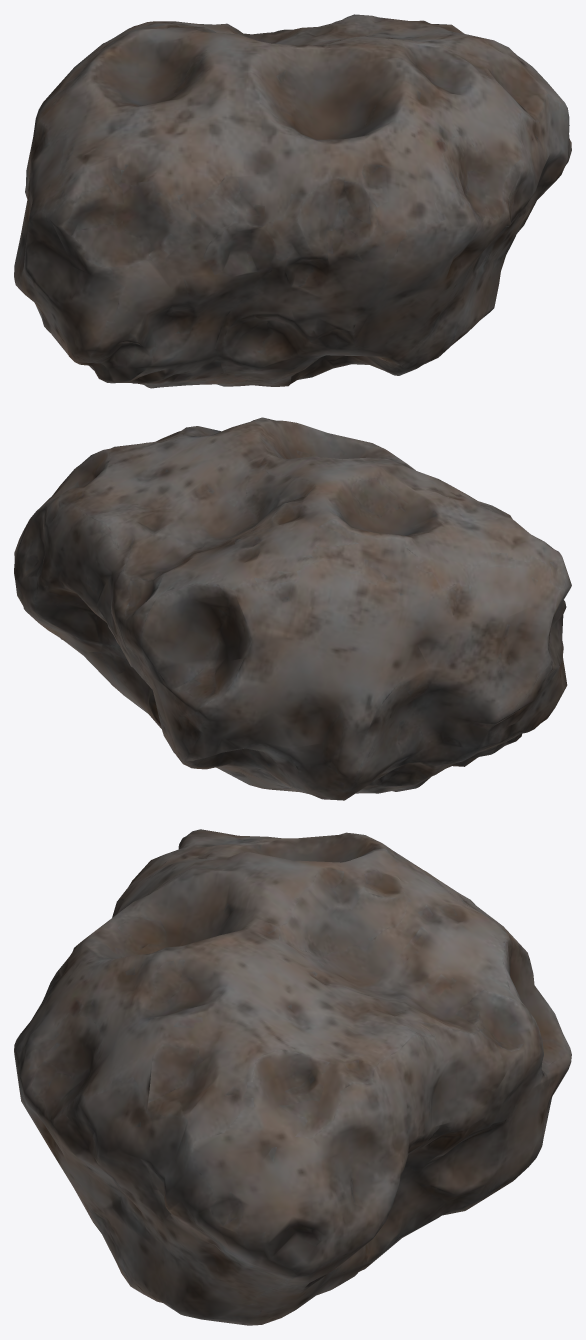
Rendered from meteorite.glb.
3 views of the same model, one above another, from view 1: azimuth 30°, elevation 25°; view 2: azimuth 150°, elevation 25°; view 3: azimuth 270°, elevation 25° (orthographic). The views are drawn at different scales.
Bounding box in the file's own units: 7.19 × 4.25 × 5.62.
1 material, 1 textured.
